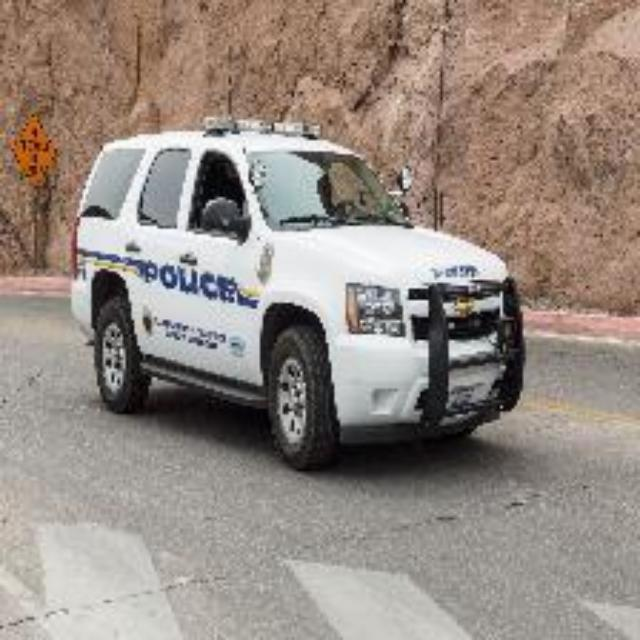emergency: (73, 120, 535, 462)
